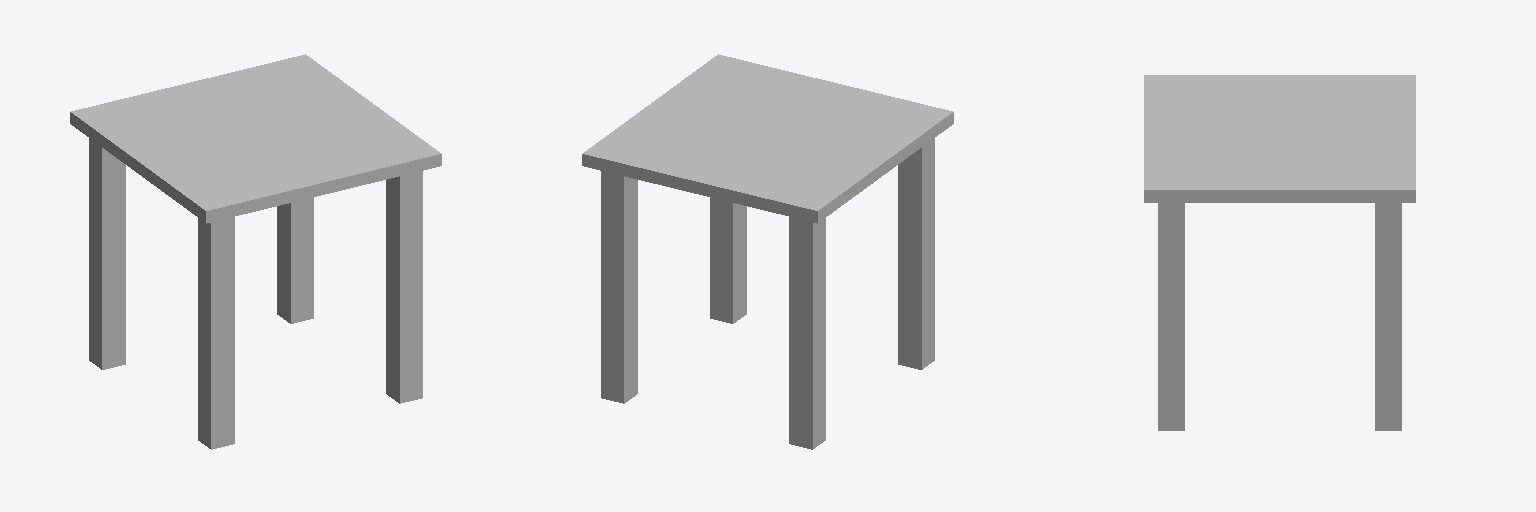
The model's file is table.obj.
The picture shows the model from 3 angles: view 1: azimuth 30°, elevation 25°; view 2: azimuth 150°, elevation 25°; view 3: azimuth 270°, elevation 25°; orthographic projection.
Parts seen in each view (by area): view 1: Cube_Cube.001; view 2: Cube_Cube.001; view 3: Cube_Cube.001.
Boxes of the visible parts, x1=… form: Cube_Cube.001: x1=70, y1=54, x2=441, y2=449; Cube_Cube.001: x1=582, y1=54, x2=953, y2=449; Cube_Cube.001: x1=1144, y1=75, x2=1415, y2=430.
Bounding box in the file's own units: 2 × 2 × 2.